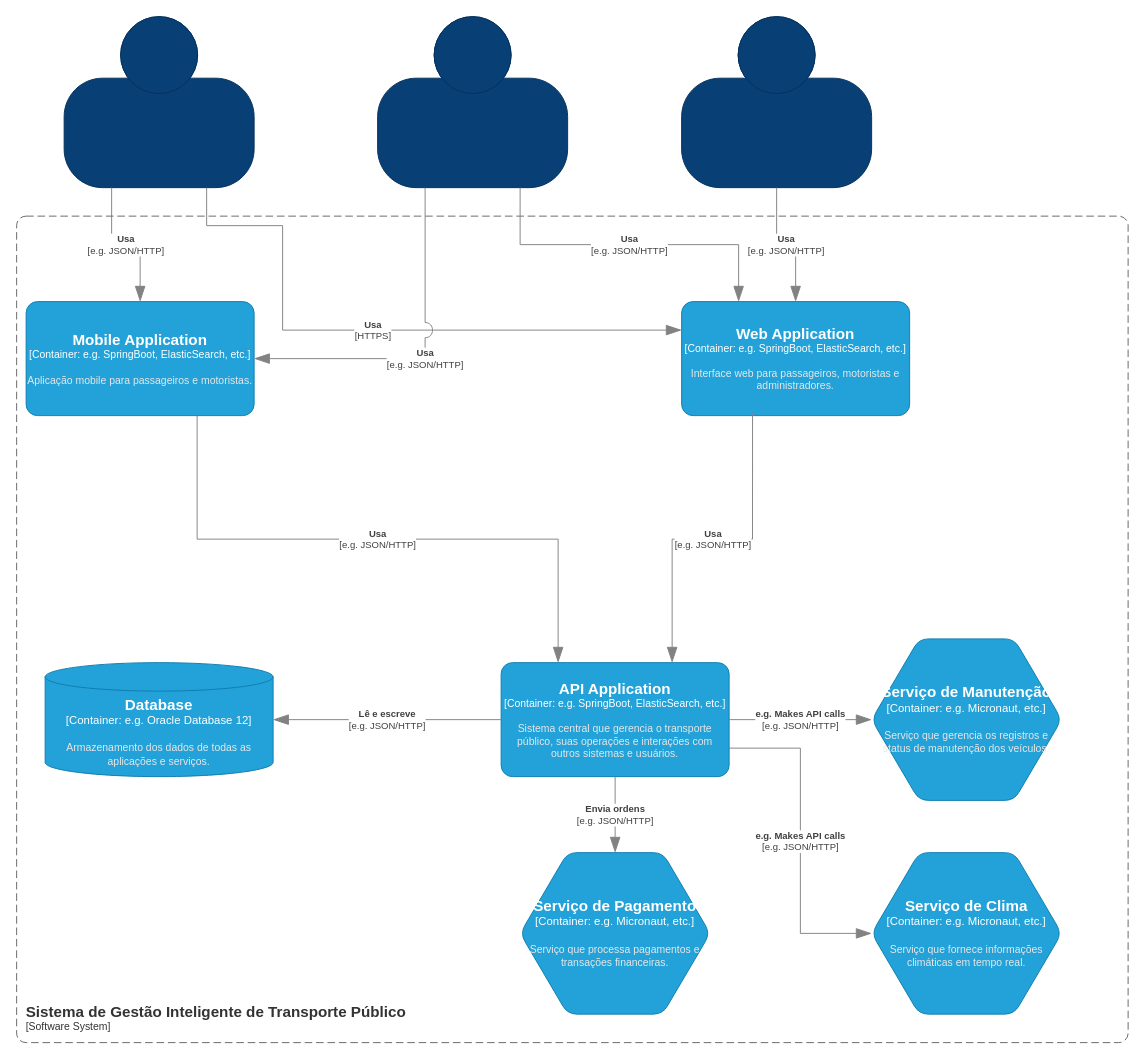
This 1145x1059 diagram has some shape labels left out. Here are the shapes that lost their labels. From the top down, the centre of each, then its label:
point 158,102: Passageiro [Person] Description of person.
point 472,102: Motorista [Person] Description of person.
point 776,102: Administrador [Person] Description of person.
